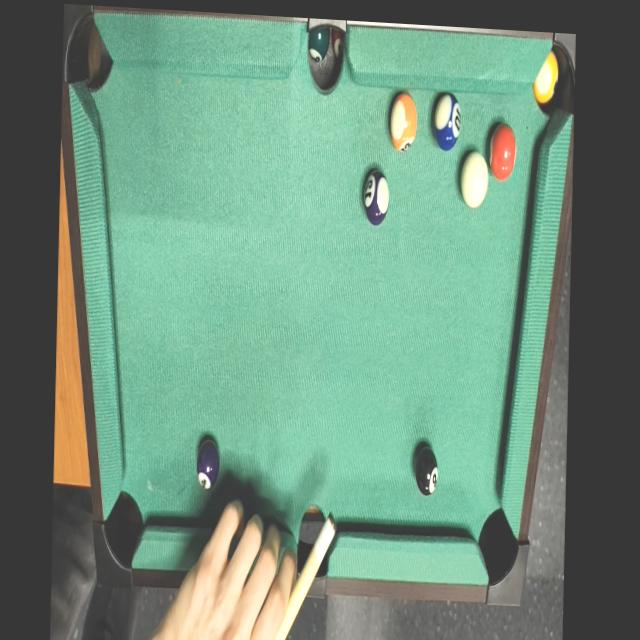cue ball: (458, 149, 491, 209)
other: (431, 91, 463, 157), (360, 165, 392, 229), (389, 86, 418, 156), (489, 121, 518, 183), (194, 435, 221, 490), (415, 442, 440, 497)
